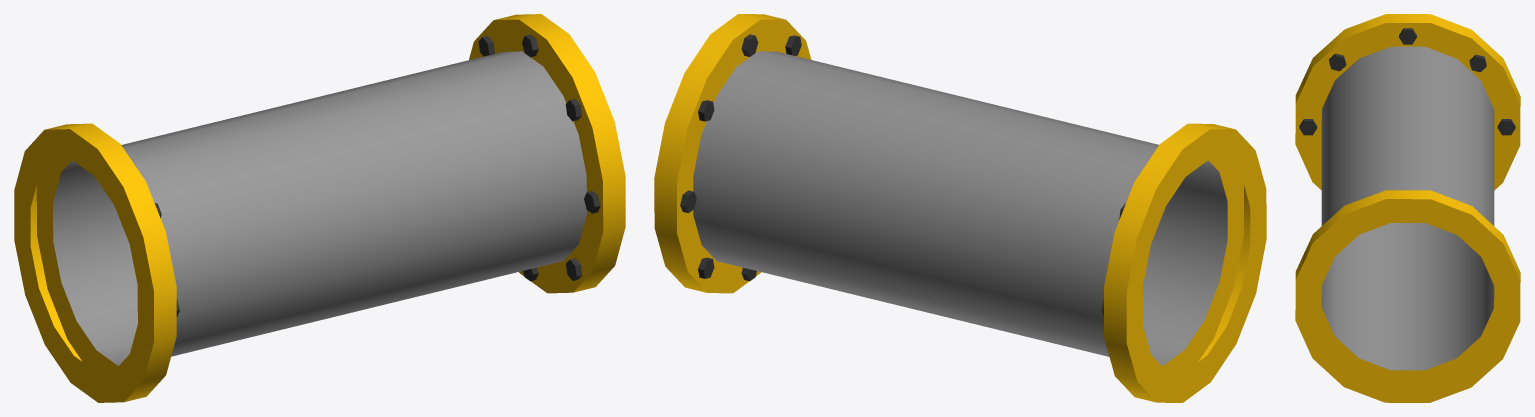
Rendered from pipe short.fbx.
3 renders of one model, left to right at view 1: azimuth 30°, elevation 25°; view 2: azimuth 150°, elevation 25°; view 3: azimuth 270°, elevation 25°, orthographic. The views are drawn at different scales.
Visible parts, largest first — view 1: Short_Pipes; view 2: Short_Pipes; view 3: Short_Pipes.
Part boxes in pixels (x1,y1,x2,y2): Short_Pipes: (14,14,625,402); Short_Pipes: (654,14,1266,402); Short_Pipes: (1295,14,1520,402).
Bounding box in the file's own units: 62.82 × 32.28 × 32.28.
